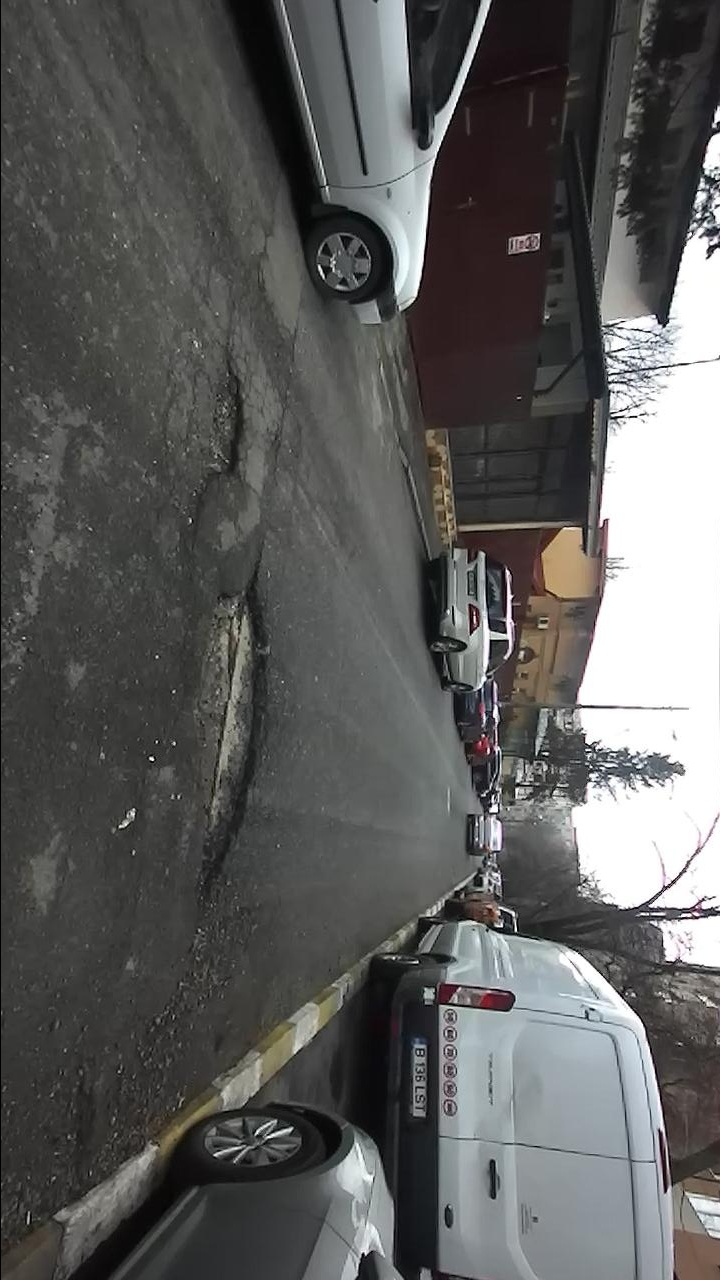pothole: (179, 561, 274, 925), (191, 343, 251, 528)
